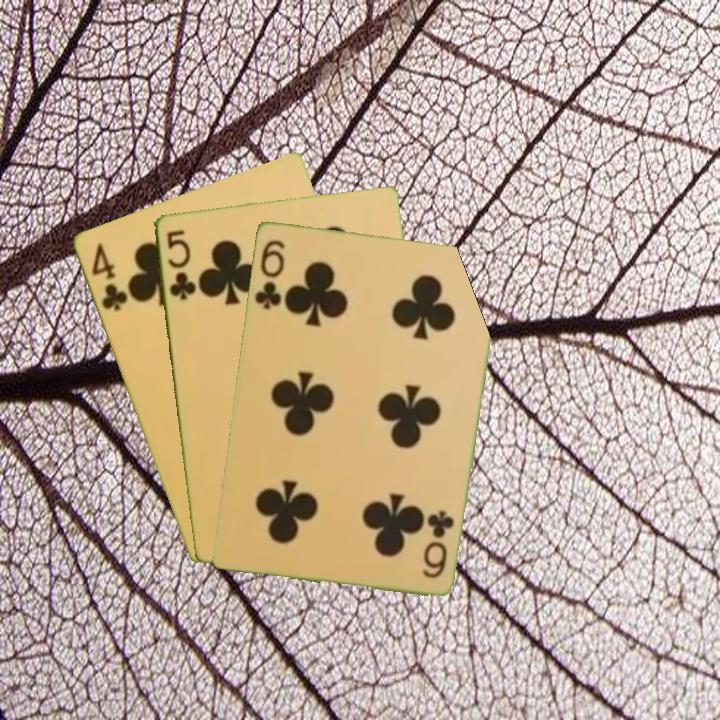4c: (87, 239, 130, 314)
5c: (162, 226, 199, 302)
6c: (250, 235, 288, 312), (420, 506, 457, 581)
